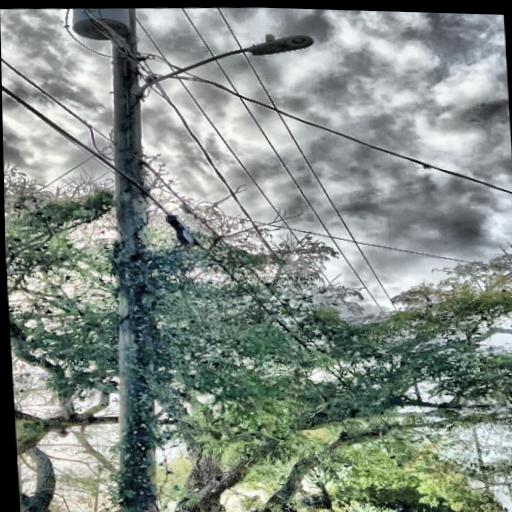pole: (90, 6, 174, 512)
street light: (118, 23, 325, 112)
transformer: (64, 6, 132, 41)
